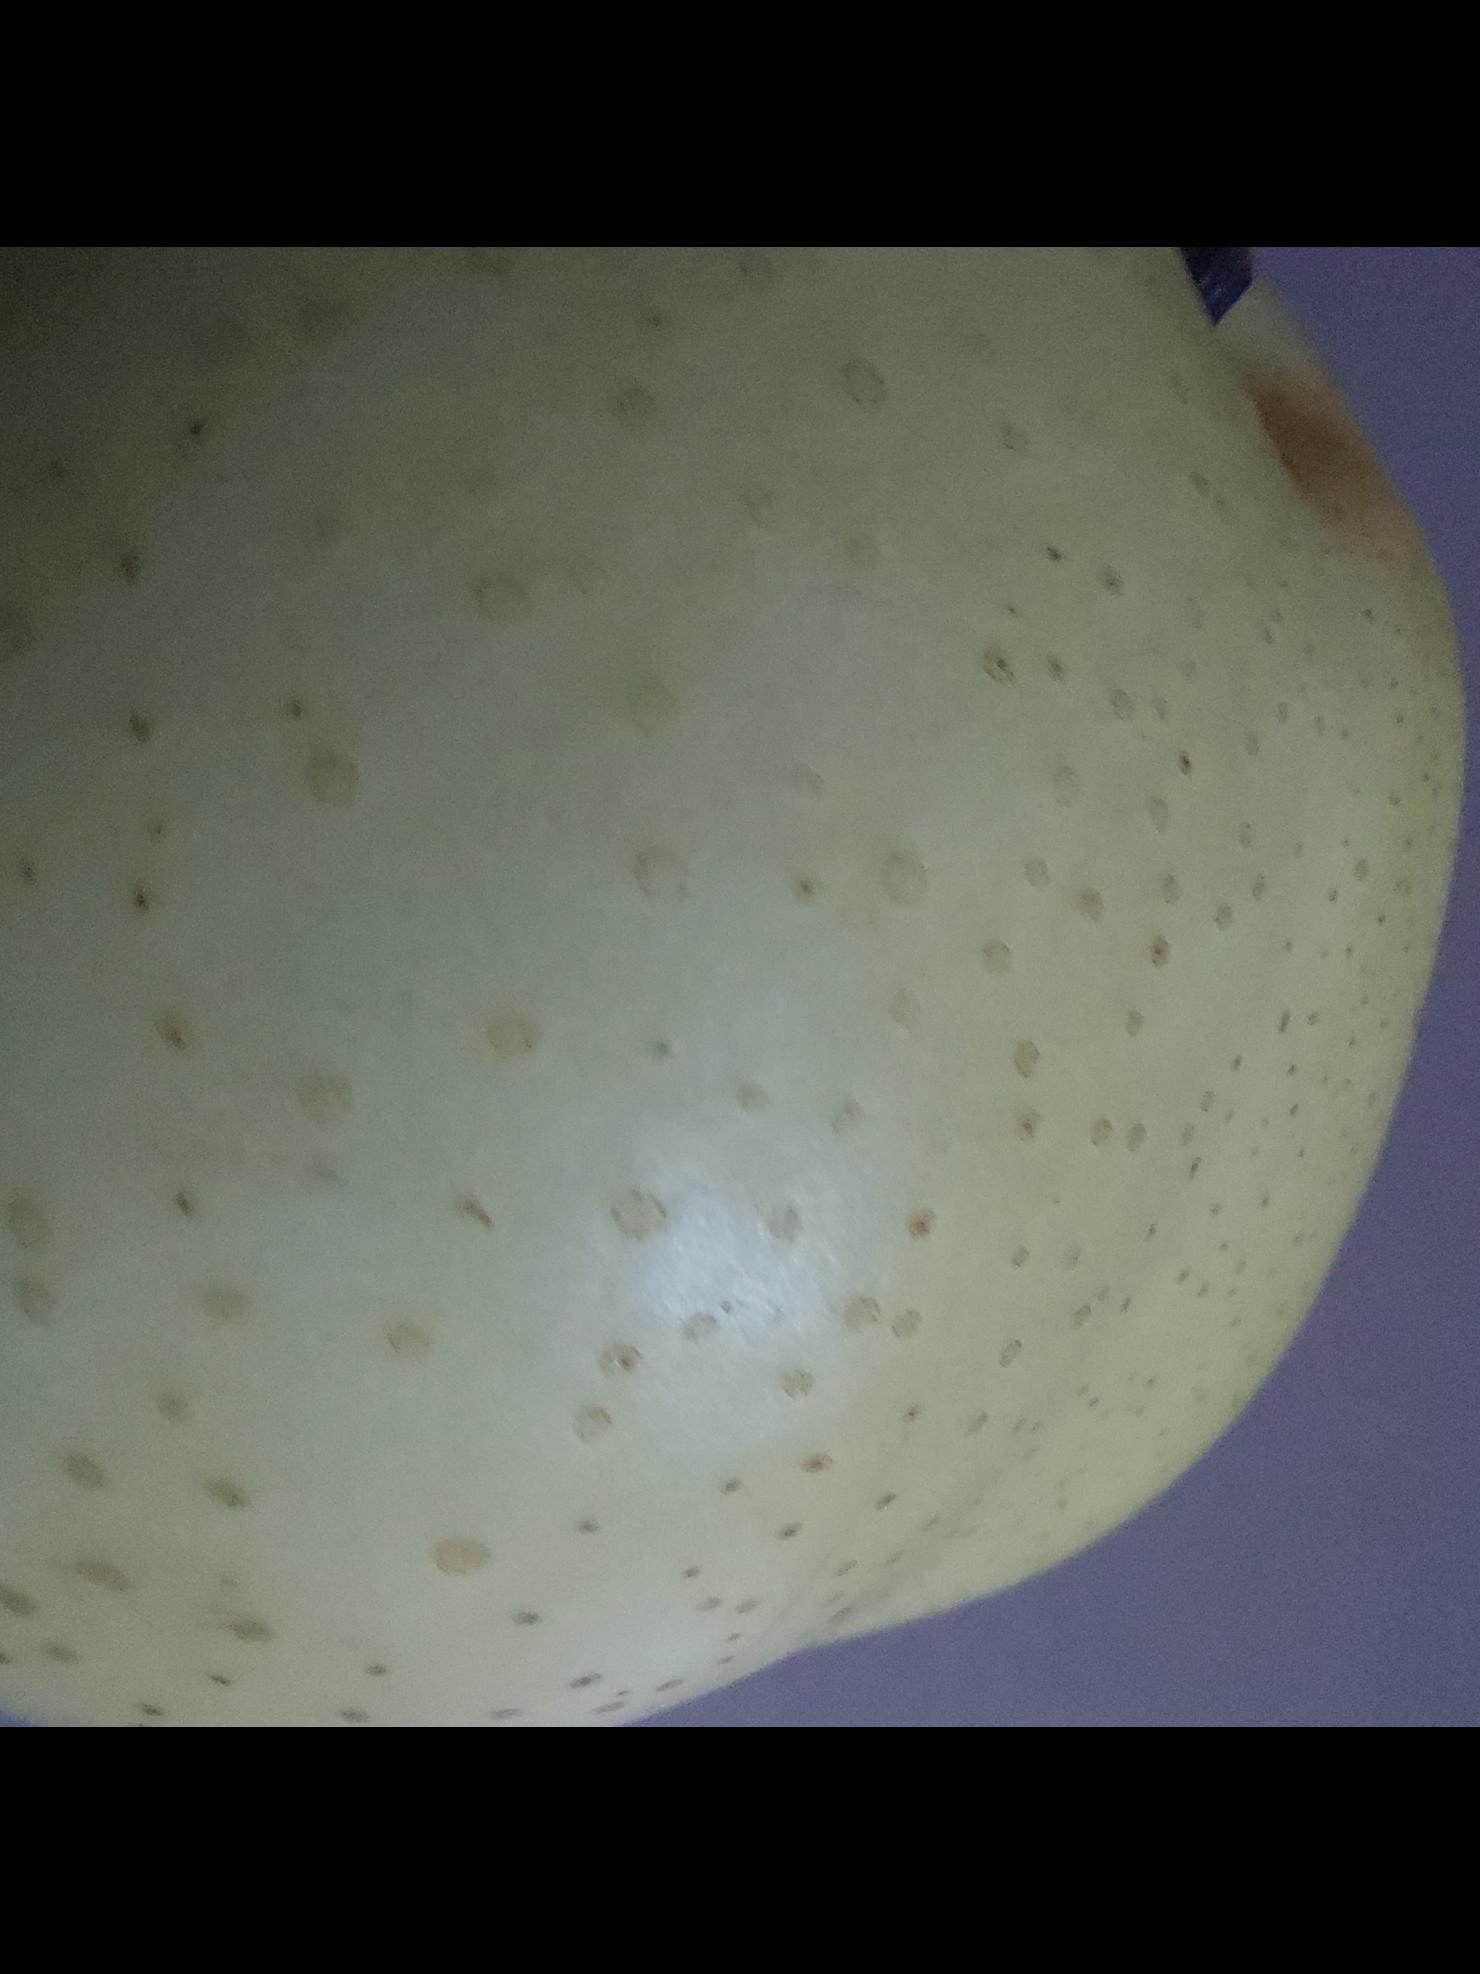Good Pear: (0, 247, 1472, 1727)
